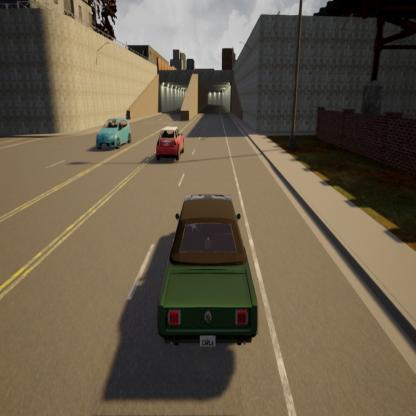Cars: (156, 192, 259, 350), (97, 113, 130, 150), (157, 124, 184, 159)
